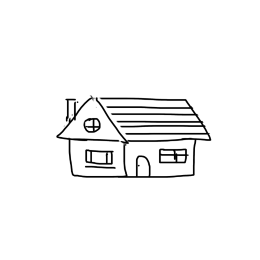chimney: (61, 87, 86, 127)
closed_window: (81, 145, 120, 166), (156, 145, 191, 164), (81, 115, 106, 133)
door: (131, 154, 154, 183)
roof: (48, 91, 216, 147)
small_house: (0, 0, 260, 260)
wall: (119, 134, 199, 184)
